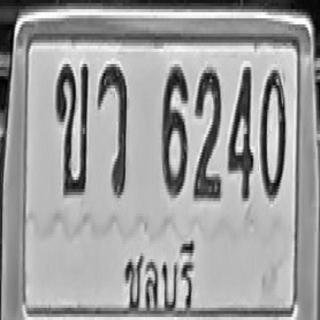A02: (55, 61, 89, 195)
A37: (97, 62, 127, 196)
N00: (260, 67, 285, 198)
N02: (193, 66, 222, 200)
N04: (227, 64, 253, 201)
N06: (162, 66, 188, 196)
P13: (119, 234, 202, 318)
